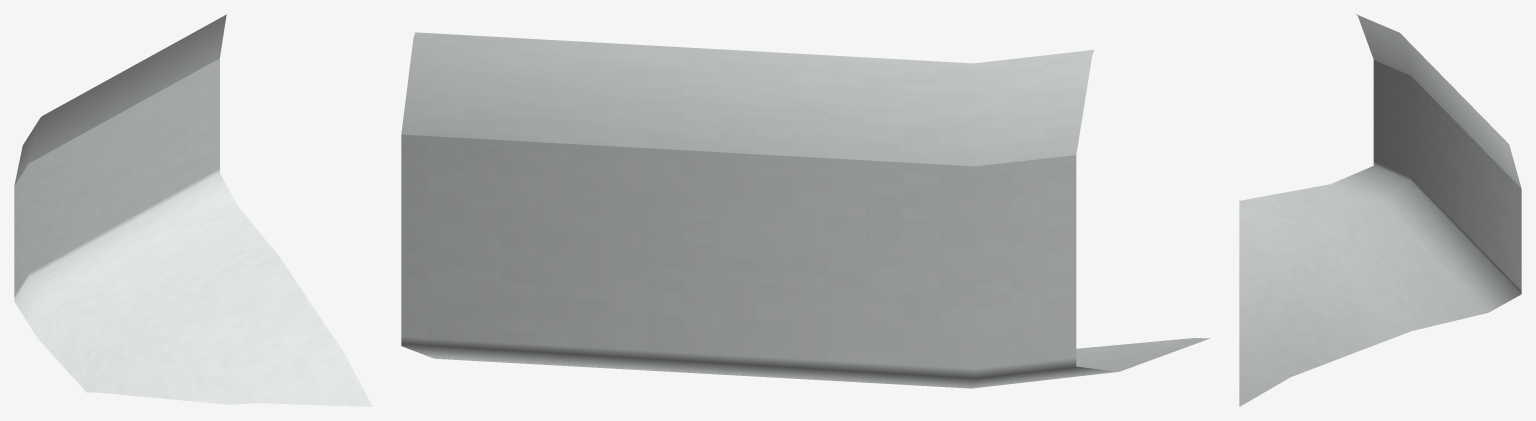
Rendered from spheroid_medium_1_1_0.obj.
3 renders of one model, left to right at view 1: azimuth 30°, elevation 25°; view 2: azimuth 150°, elevation 25°; view 3: azimuth 270°, elevation 25°, orthographic. The views are drawn at different scales.
Visible parts, largest first — view 1: spheroid_medium_1_1_0; view 2: spheroid_medium_1_1_0; view 3: spheroid_medium_1_1_0.
Part boxes in pixels (box(x1,y1,x2,y2)): spheroid_medium_1_1_0: box(14, 14, 372, 406); spheroid_medium_1_1_0: box(401, 32, 1210, 388); spheroid_medium_1_1_0: box(1239, 14, 1521, 406).
Bounding box in the file's own units: 3 × 2.87 × 2.78.
